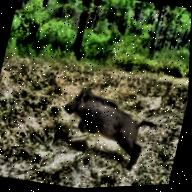boar: (47, 74, 164, 183)
